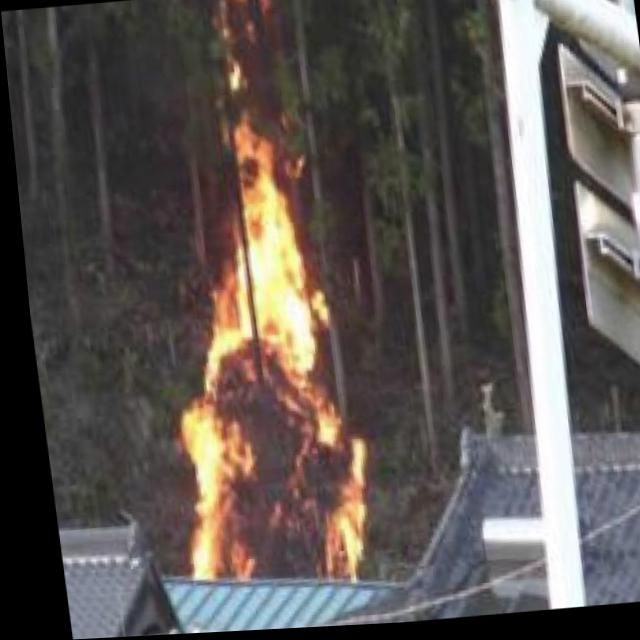Fire: (137, 134, 376, 594), (205, 0, 287, 44)
